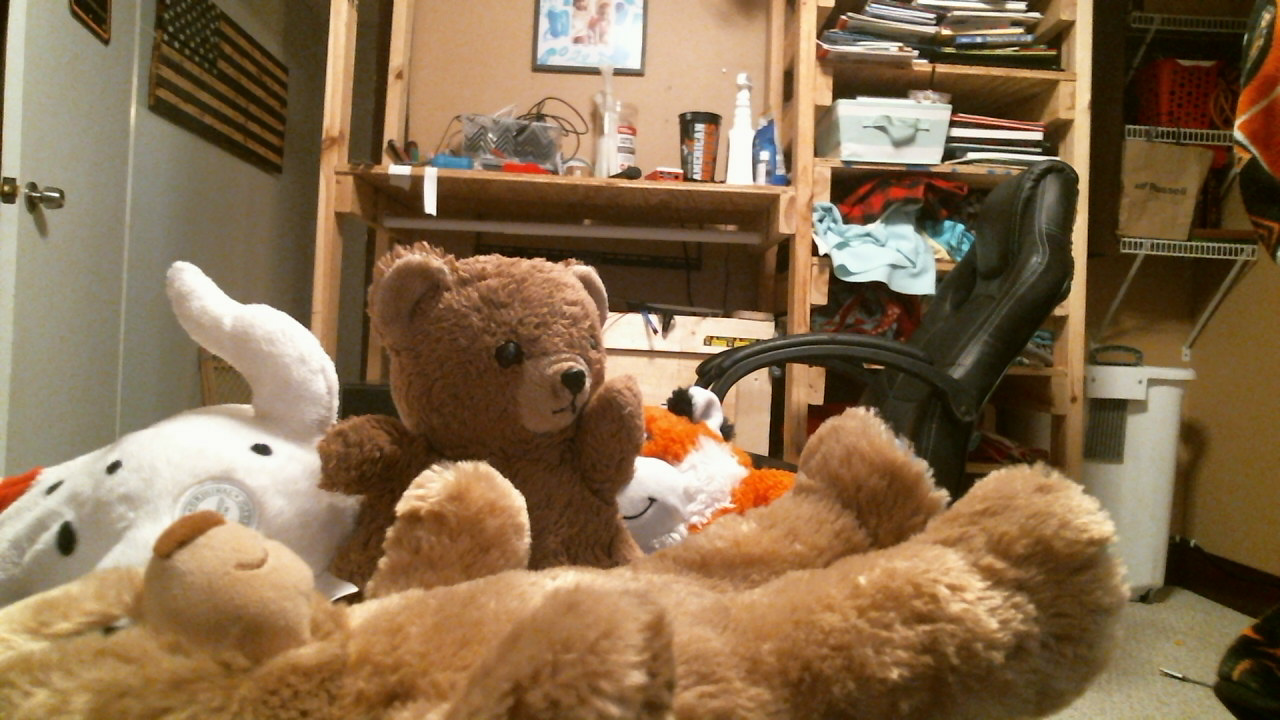Little_Mister_Bear: (368, 254, 624, 462)
